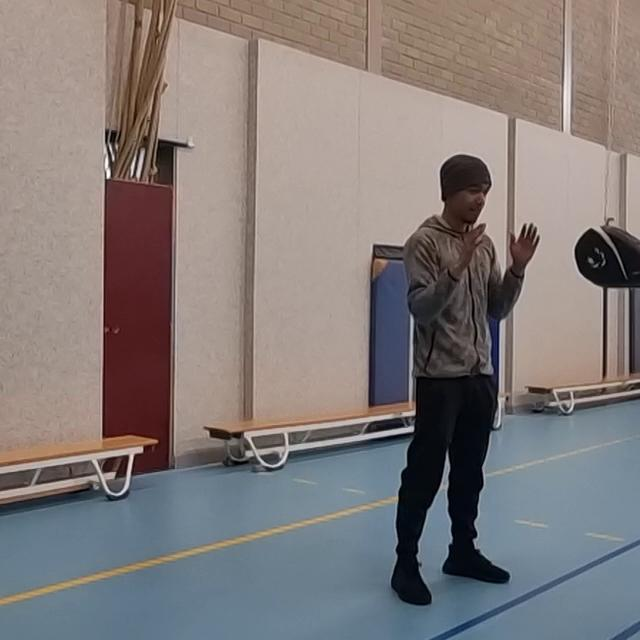paddle: (570, 220, 640, 293)
